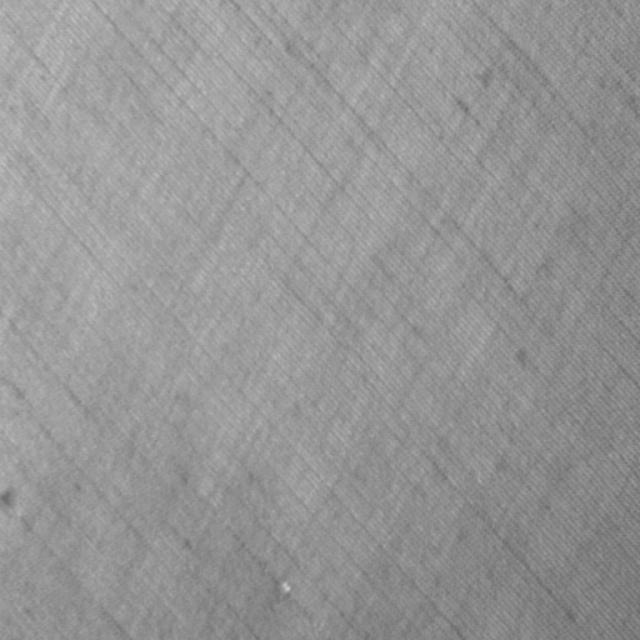hole: (278, 576, 292, 595)
